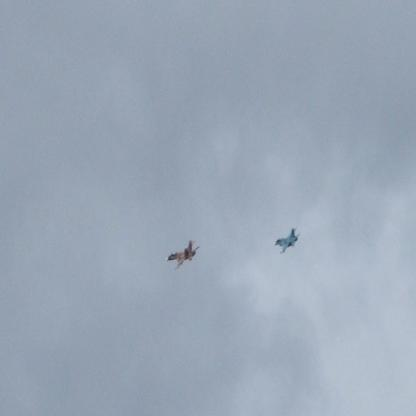aircraft: (168, 239, 200, 270), (274, 228, 298, 254)
